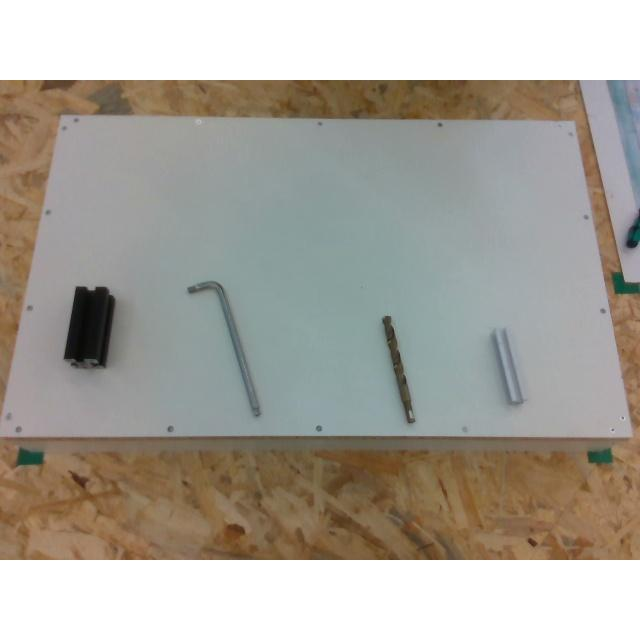AllenKey: (187, 280, 261, 416)
Drill: (382, 315, 414, 423)
F20_20_G: (492, 328, 524, 404)
S40_40_B: (64, 286, 116, 369)
Screwdriver: (625, 157, 639, 247)
